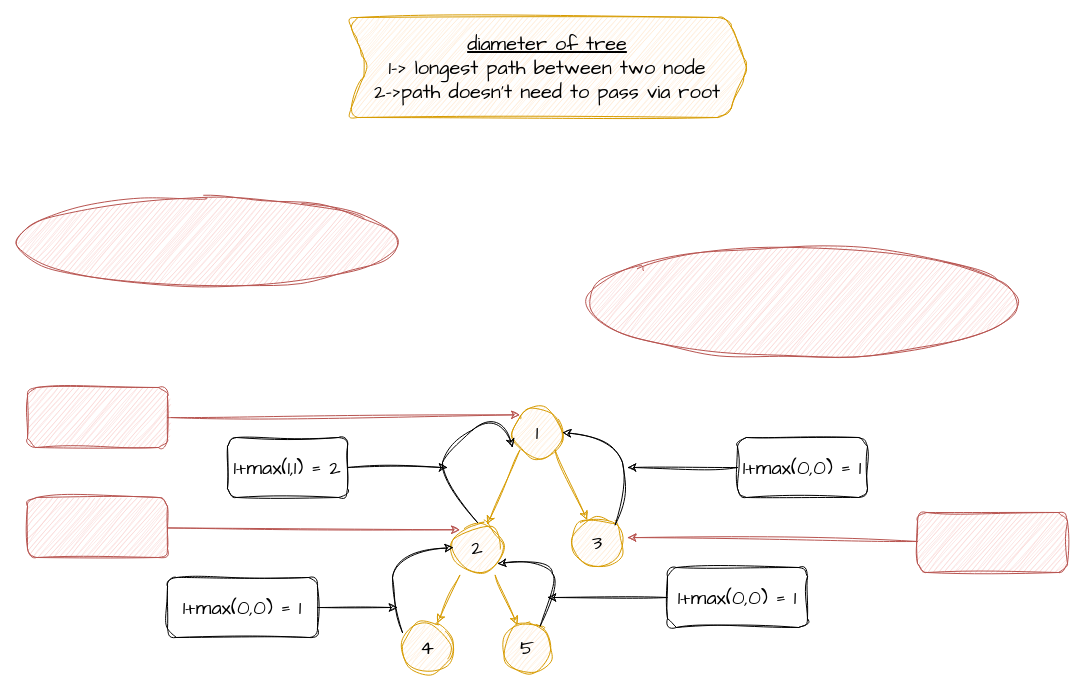
Image size: 1085x691. Some labels were removed from this diagram. The centre of each missing label's shape, as x and y in pixels:
"1 -> find height of every node then calculate maxium" belongs at (x=207, y=242).
"curr_height = 0; curr_height = max(curr_height , Lh+RH)" belongs at (x=802, y=302).
"max(0,0+0) = 0" belongs at (x=992, y=542).
"max(0,1+1) = 2" belongs at (x=97, y=527).
"max(2,2+1) = 3" belongs at (x=97, y=417).
